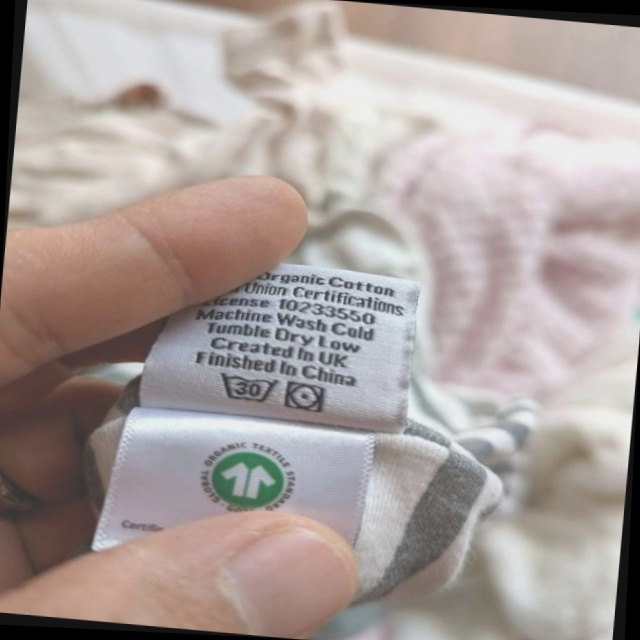30C: (213, 368, 281, 408)
tumble_dry_low: (281, 378, 329, 417)
